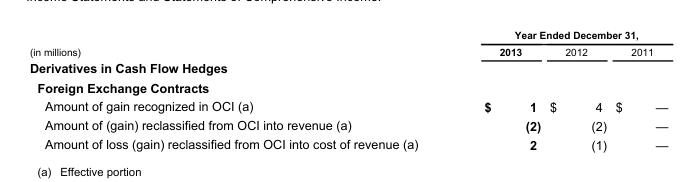table: (28, 29, 667, 151)
table column: (28, 29, 450, 151), (450, 29, 544, 151), (544, 29, 610, 151), (610, 29, 667, 151)
table column header: (28, 29, 667, 58)
table projected row header: (28, 58, 667, 77), (28, 77, 667, 96)
table row: (28, 58, 667, 77), (28, 77, 667, 96), (28, 96, 667, 115), (28, 115, 667, 134), (28, 134, 667, 151), (28, 42, 667, 58), (28, 29, 667, 42)
table spanning cell: (28, 29, 450, 58), (450, 29, 667, 42)
